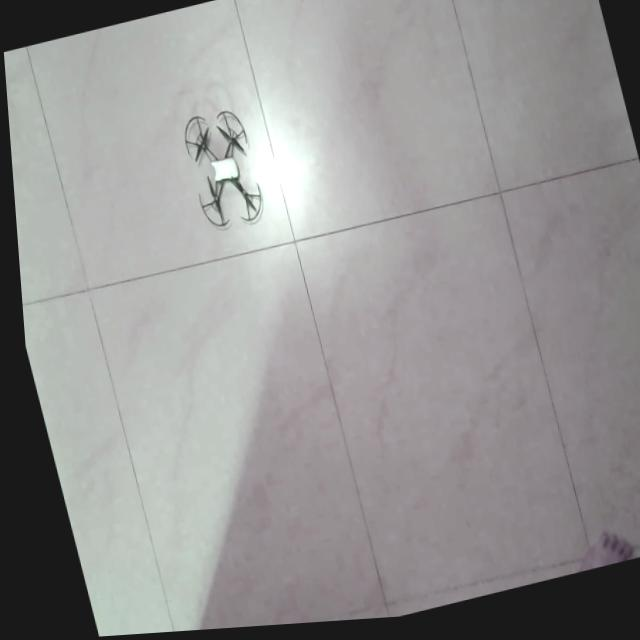drone: (181, 112, 258, 231)
